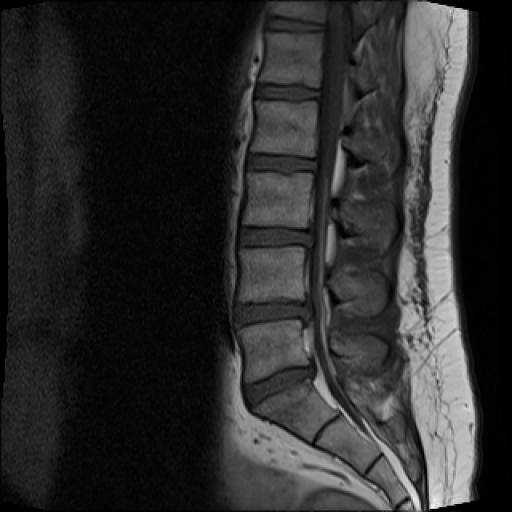L1: (259, 32, 323, 88)
L2: (252, 101, 316, 156)
L3: (242, 173, 313, 228)
L4: (240, 248, 306, 302)
L5: (239, 320, 309, 385)
S1: (252, 379, 337, 442)
